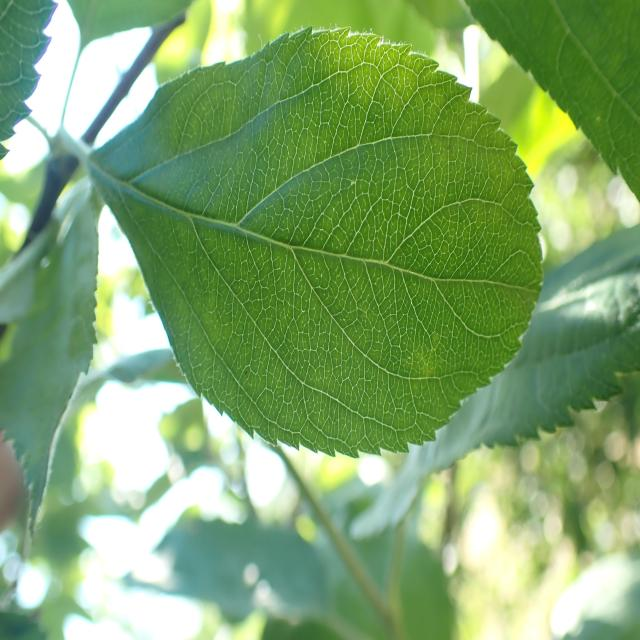healthy: (91, 26, 544, 458), (1, 176, 105, 544), (461, 0, 640, 202), (0, 0, 59, 160)
